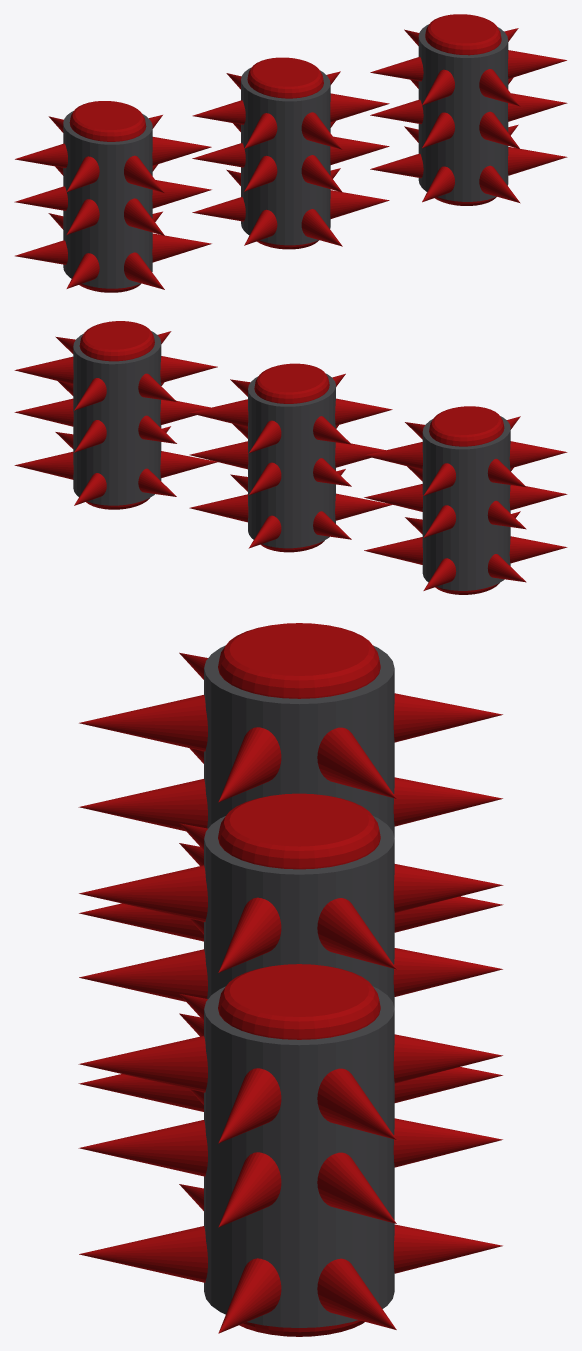
File: obstacle.fbx
3 views of the same model, one above another, from view 1: azimuth 30°, elevation 25°; view 2: azimuth 150°, elevation 25°; view 3: azimuth 270°, elevation 25° (orthographic). The views are drawn at different scales.
Parts seen in each view (by area): view 1: Cone.002; view 2: Cone.002; view 3: Cone.002.
Boxes of the visible parts, x1=… form: Cone.002: x1=14, y1=14, x2=567, y2=292; Cone.002: x1=14, y1=321, x2=567, y2=594; Cone.002: x1=78, y1=623, x2=503, y2=1336.
Bounding box in the file's own units: 1330 × 400 × 482.
